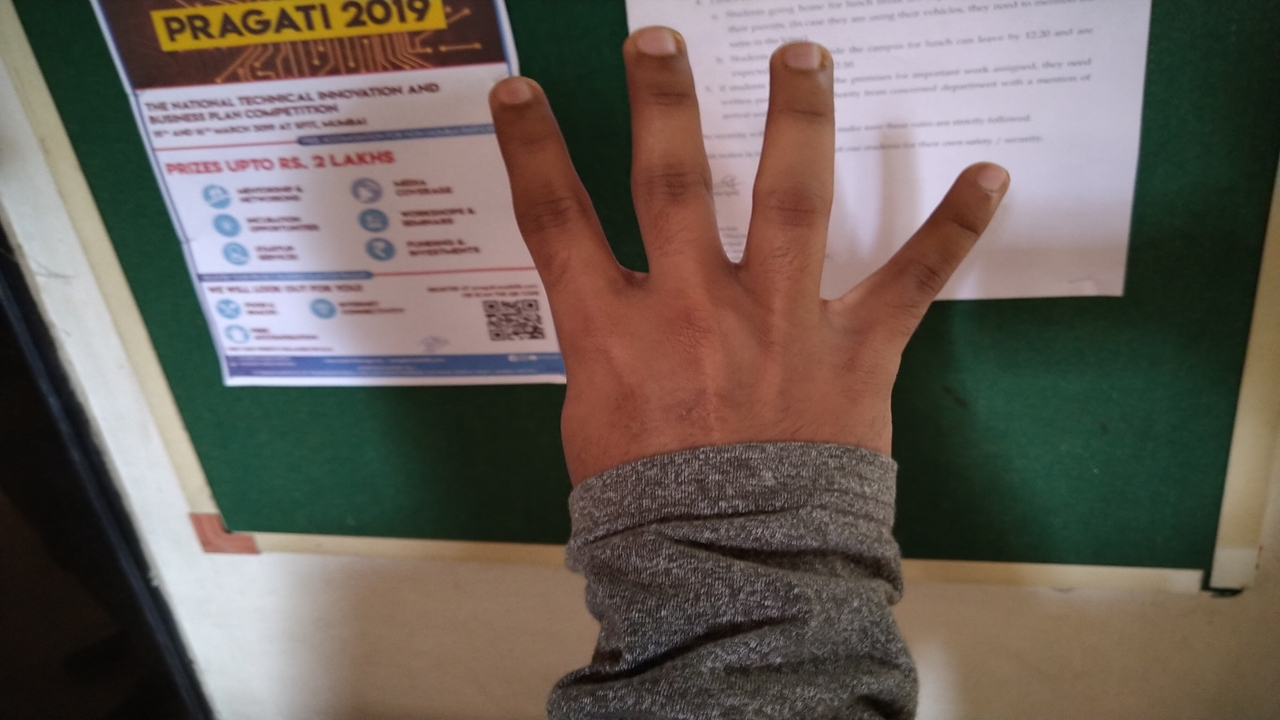fingertip: (478, 68, 550, 124), (622, 18, 688, 74), (772, 38, 834, 90), (954, 156, 1016, 206)
